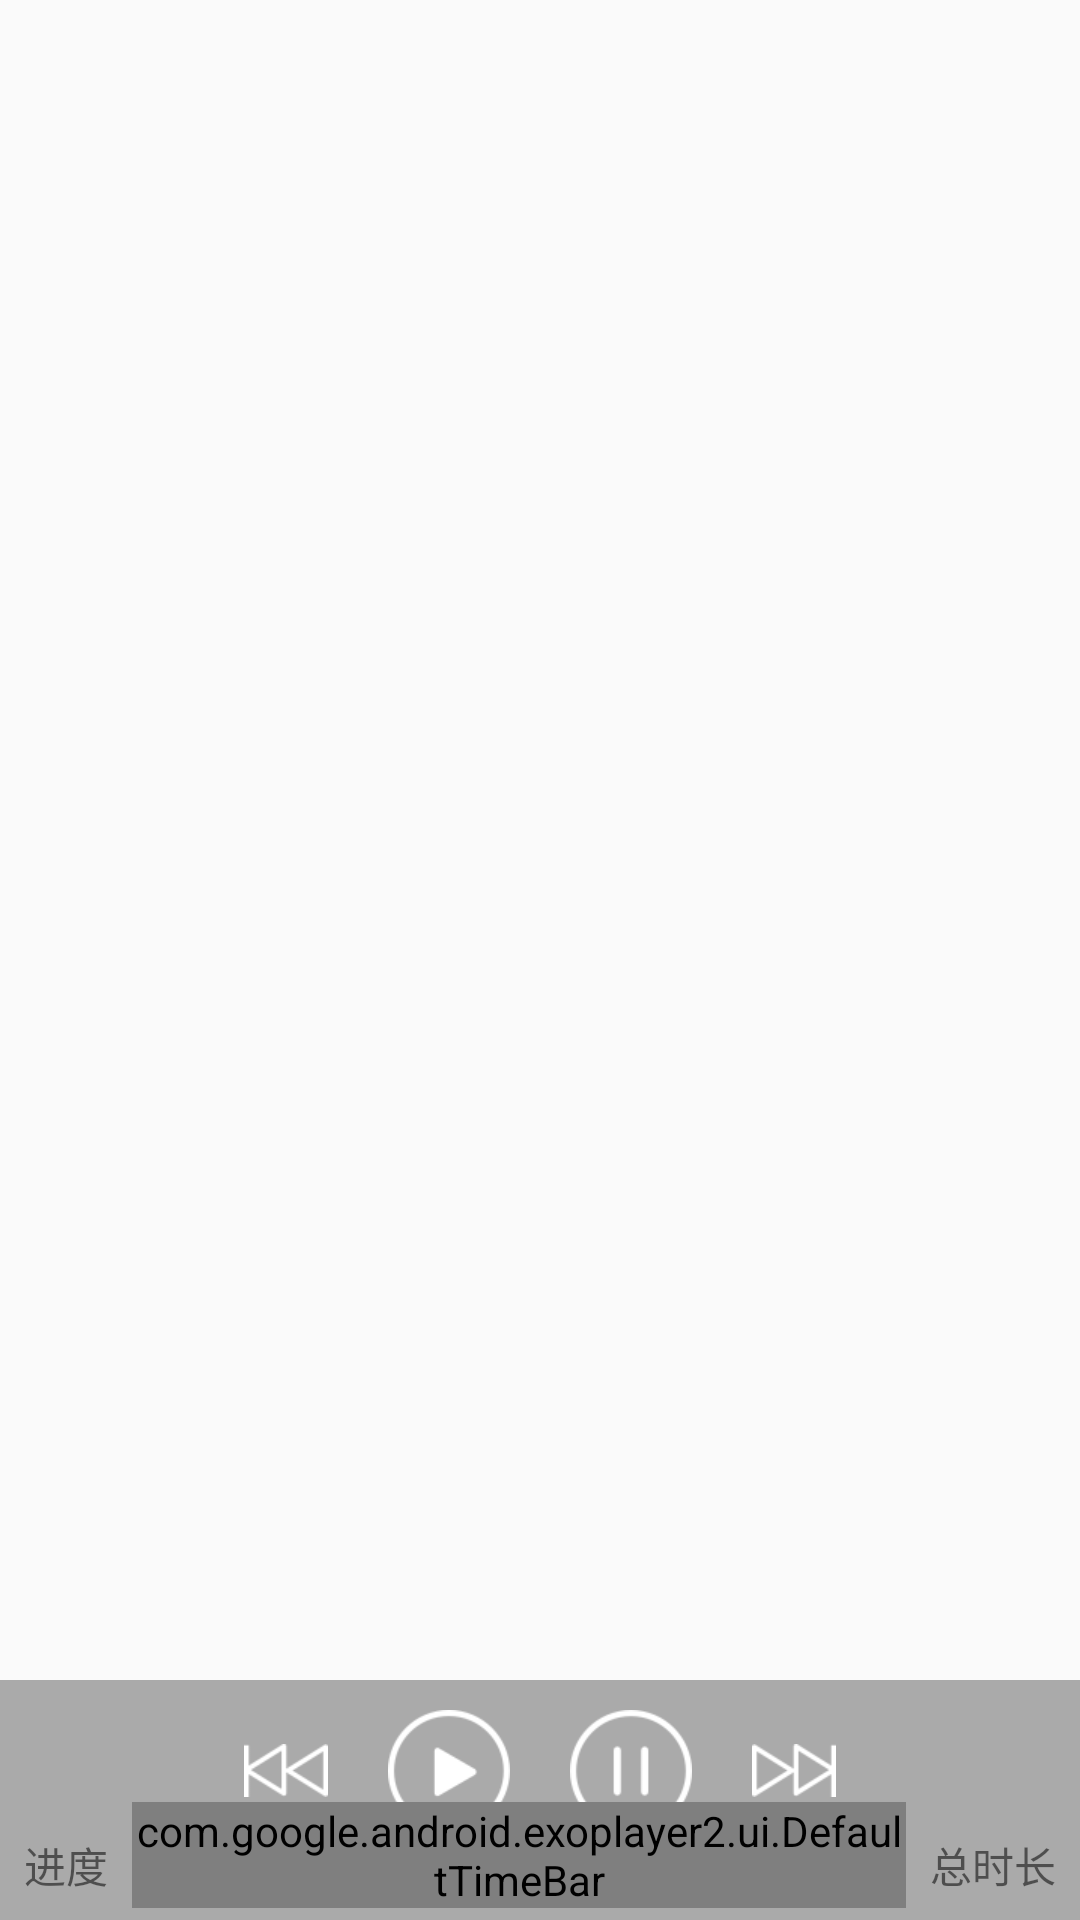

Icons on this 1080 × 1920 Android screen, each with its box as box=[x1, y1, x2, y2]:
player ffward: box=[722, 1744, 866, 1827]
player reverse: box=[214, 1744, 358, 1827]
